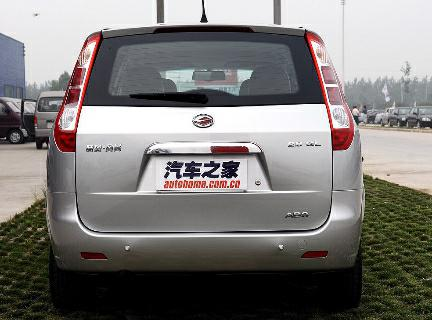陆风-风尚: (45, 24, 369, 306)
